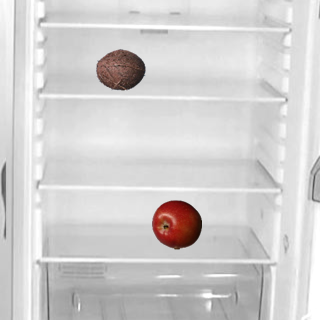Apple Braeburn: (151, 199, 201, 249)
Cocos: (95, 44, 145, 94)
